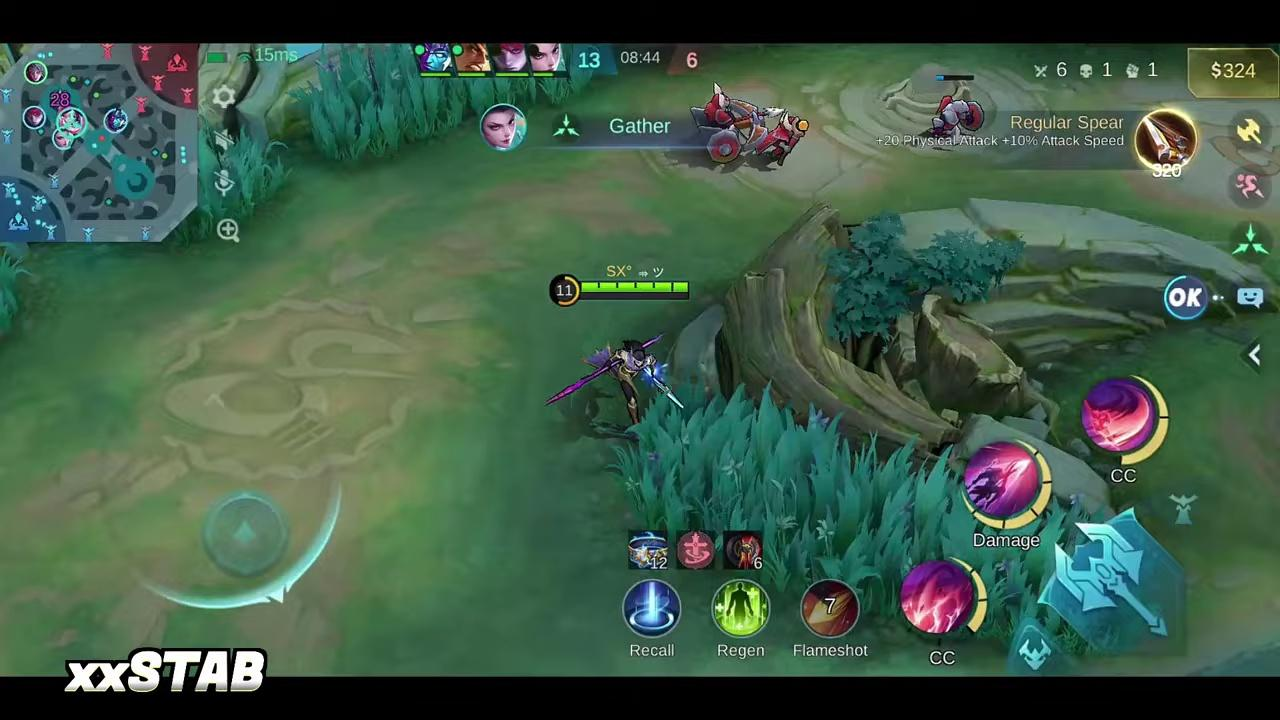bush: (620, 391, 1022, 616), (306, 48, 589, 165), (170, 124, 291, 246), (0, 253, 23, 339)
hp_self: (582, 282, 689, 292)
minion_ally: (693, 88, 793, 164), (744, 107, 810, 162), (930, 86, 988, 134)
